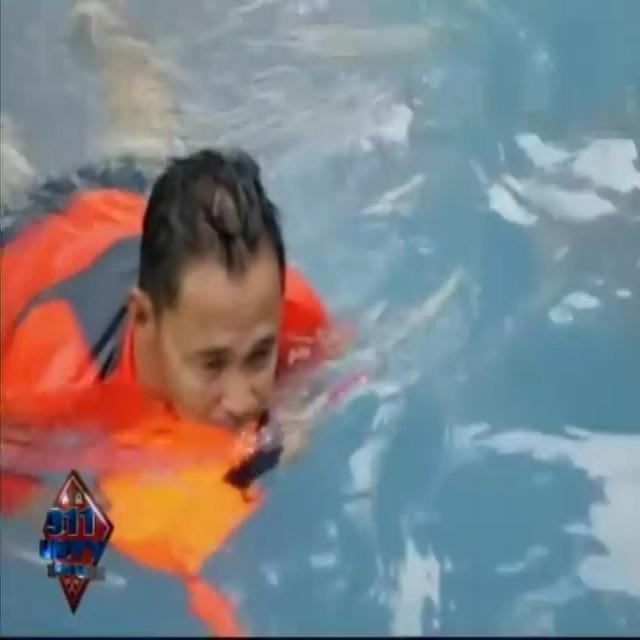swimming: (0, 89, 349, 600)
